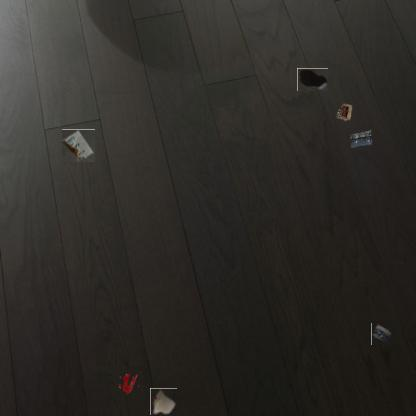dirty: (62, 129, 95, 162), (150, 388, 177, 415), (347, 128, 373, 148), (371, 323, 392, 345), (334, 101, 354, 123)
liquid: (297, 68, 328, 91), (119, 374, 140, 394)
